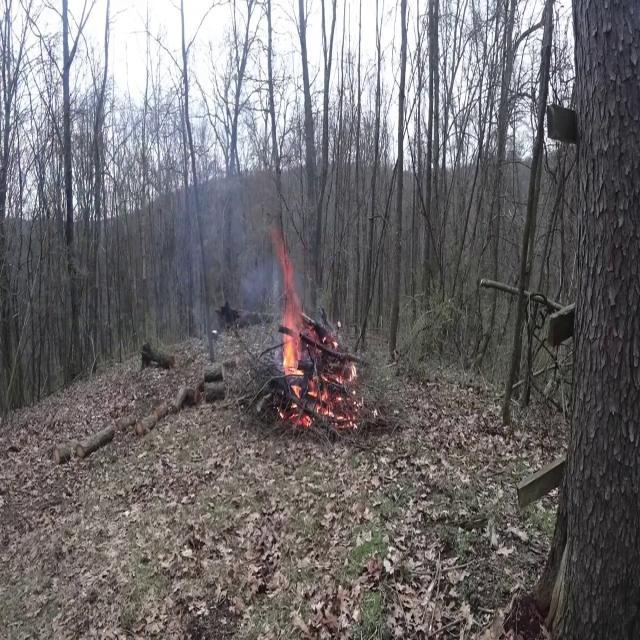Fire: (266, 224, 360, 423), (275, 258, 309, 416)
